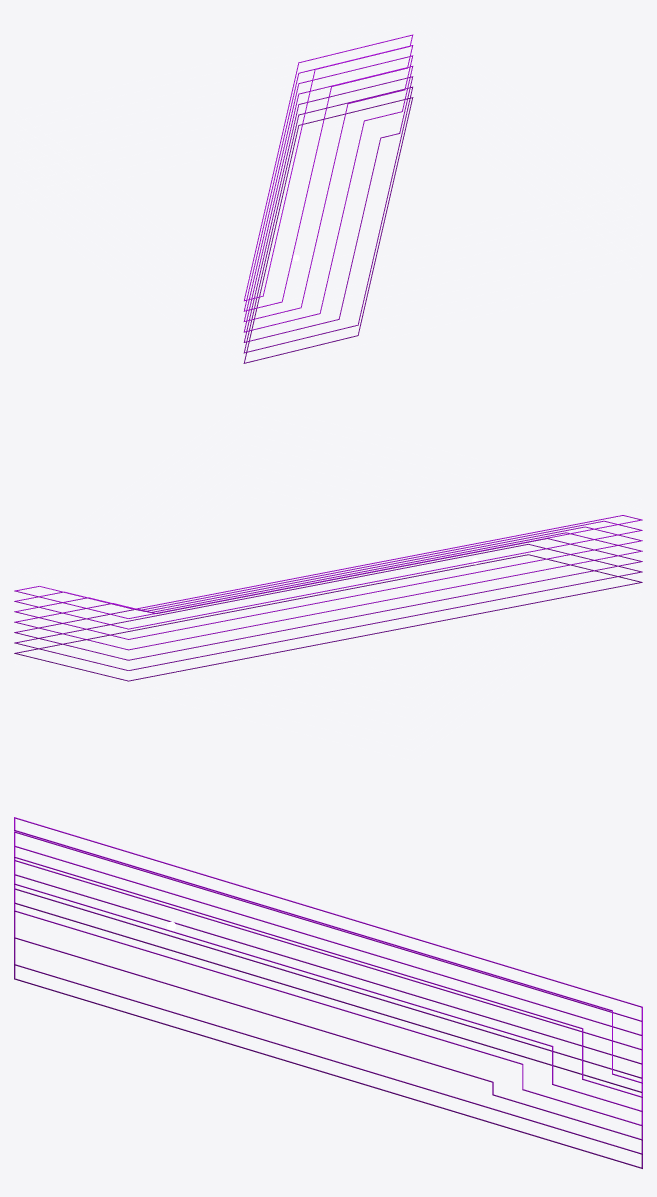
The model's file is gankou03.glb.
The picture shows the model from 3 angles, top to bottom: view 1: azimuth 30°, elevation 25°; view 2: azimuth 150°, elevation 25°; view 3: azimuth 270°, elevation 25°; orthographic projection. The views are drawn at different scales.
Visible parts, largest first — view 1: スイープ.8, スイープ.6, スイープ.4, スイープ.2, スイープ.3, スイープ.5, スイープ.7; view 2: スイープ.8, スイープ.3, スイープ.2, スイープ.6, スイープ.5, スイープ.7, スイープ.4; view 3: スイープ.8, スイープ.7, スイープ.6, スイープ.5, スイープ.4, スイープ.3, スイープ.2.
Boxes of the visible parts, left/top/right/bottom form: スイープ.8: left=244, top=34, right=413, bottom=301; スイープ.6: left=243, top=55, right=413, bottom=321; スイープ.4: left=243, top=76, right=413, bottom=342; スイープ.2: left=243, top=97, right=413, bottom=363; スイープ.3: left=243, top=86, right=412, bottom=353; スイープ.5: left=243, top=66, right=413, bottom=332; スイープ.7: left=243, top=45, right=413, bottom=311; スイープ.8: left=14, top=515, right=642, bottom=618; スイープ.3: left=14, top=544, right=642, bottom=670; スイープ.2: left=14, top=554, right=642, bottom=681; スイープ.6: left=14, top=526, right=642, bottom=639; スイープ.5: left=14, top=532, right=642, bottom=650; スイープ.7: left=14, top=520, right=642, bottom=629; スイープ.4: left=14, top=538, right=642, bottom=660; スイープ.8: left=14, top=817, right=642, bottom=1083; スイープ.7: left=14, top=831, right=642, bottom=1097; スイープ.6: left=14, top=846, right=642, bottom=1112; スイープ.5: left=14, top=860, right=642, bottom=1126; スイープ.4: left=14, top=874, right=642, bottom=1140; スイープ.3: left=14, top=888, right=642, bottom=1154; スイープ.2: left=14, top=902, right=642, bottom=1168.
Bounding box in the file's own units: 0.0201 × 0.0045 × 0.02.
